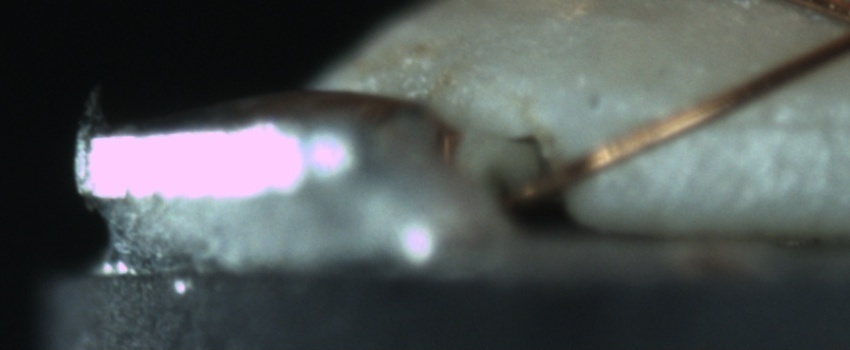DL: (693, 92, 850, 157)
